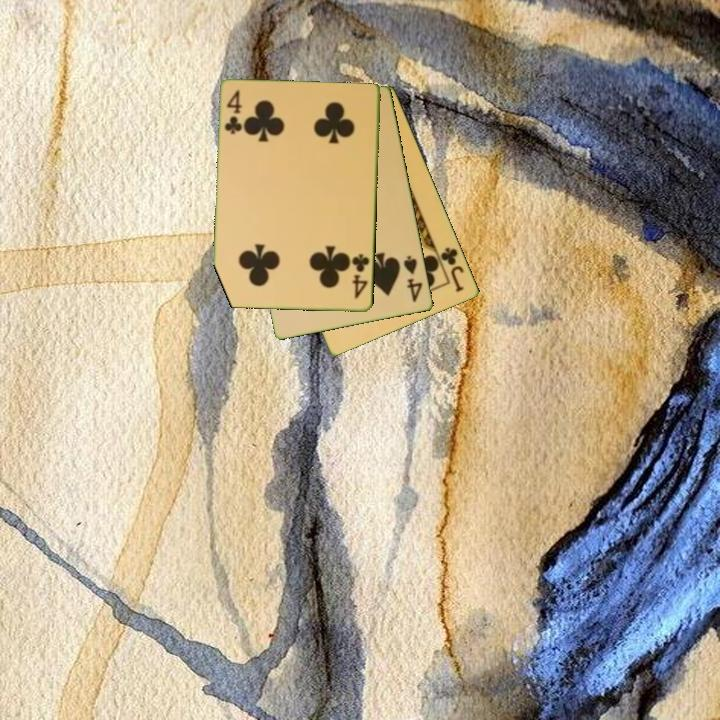4c: (348, 251, 372, 302), (221, 86, 245, 137)
4s: (400, 252, 426, 305)
Jc: (433, 244, 467, 295)
